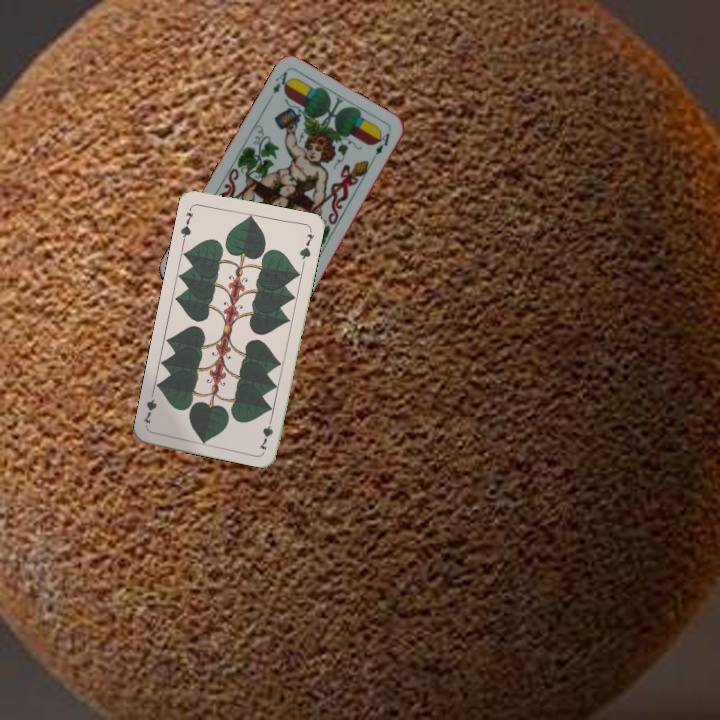EA: (269, 67, 294, 97)
G7: (176, 203, 196, 244), (256, 412, 276, 452)
